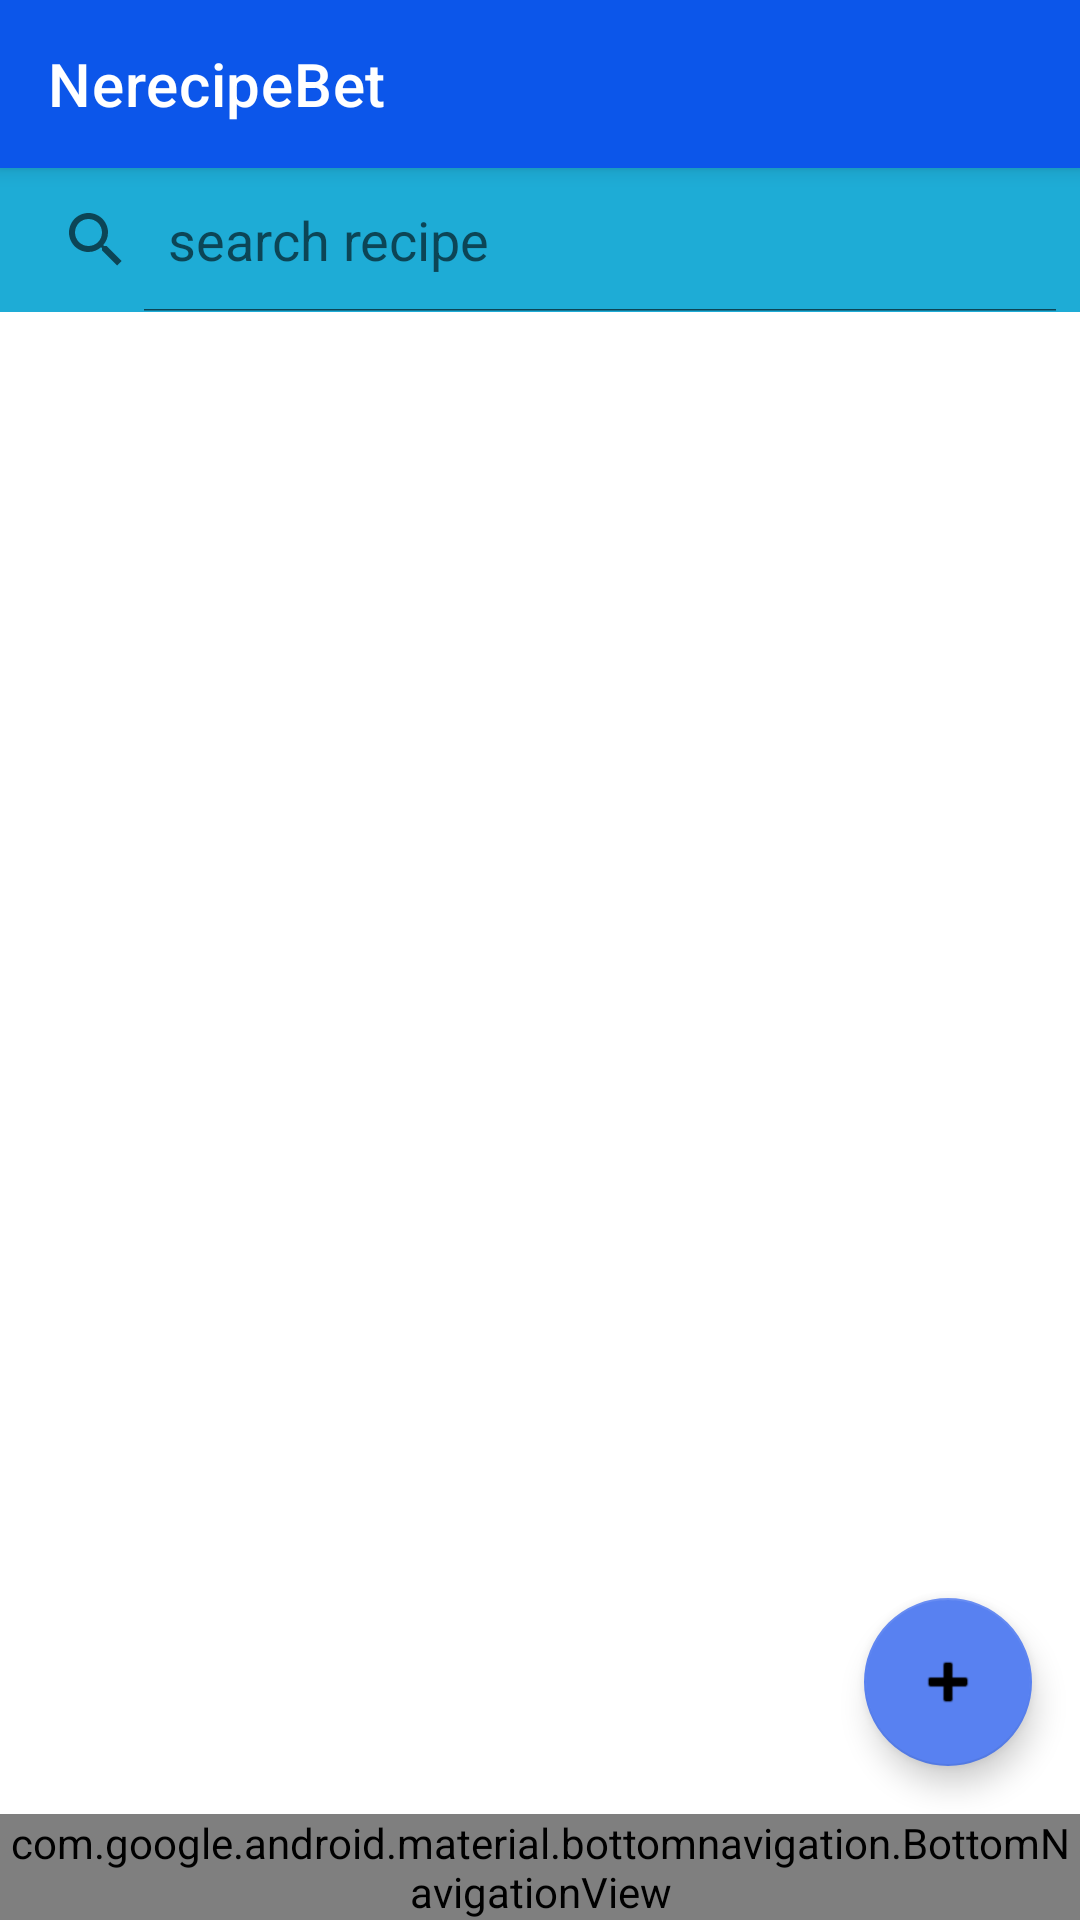

Screen size 1080 × 1920. Icon name, then its center in pixels as (x,y):
add: (948,1682)
